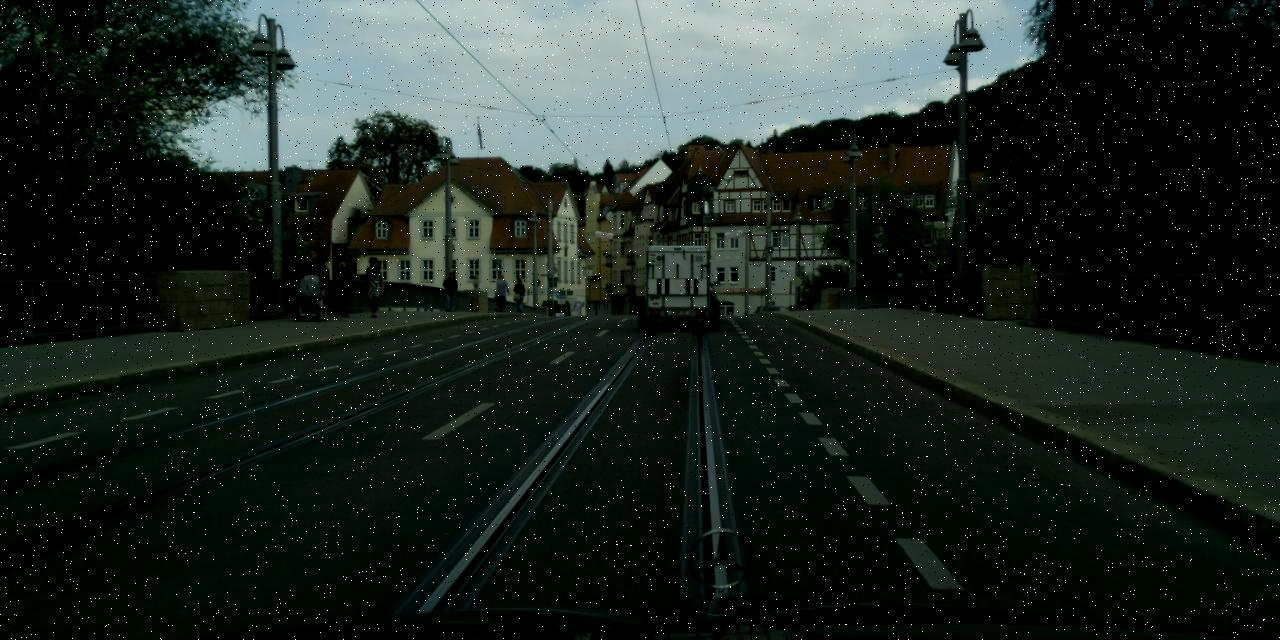ped: (300, 249, 326, 315), (328, 253, 354, 316), (308, 256, 334, 318), (361, 257, 386, 316), (443, 272, 459, 310), (494, 274, 508, 312), (512, 277, 526, 312), (492, 290, 500, 309)
